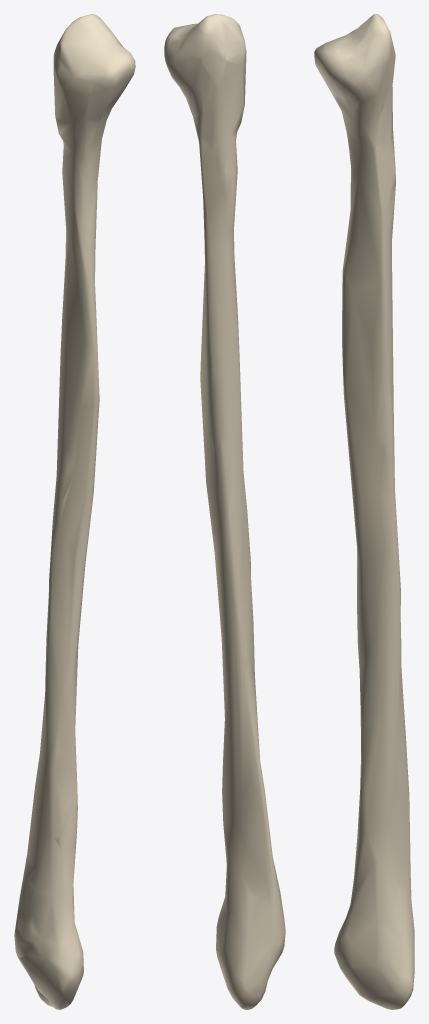
The model's file is fibula-l.glb.
3 renders of one model, left to right at view 1: azimuth 30°, elevation 25°; view 2: azimuth 210°, elevation 25°; view 3: azimuth 270°, elevation 25°, orthographic.
Parts seen in each view (by area): view 1: Fibula.l; view 2: Fibula.l; view 3: Fibula.l.
Boxes of the visible parts, box(x1,y1,x2,y2) form: Fibula.l: box(14, 14, 135, 1009); Fibula.l: box(164, 14, 285, 1009); Fibula.l: box(314, 14, 414, 1009).
Size of the model in its own units: 0.0362 by 0.3625 by 0.0329.
